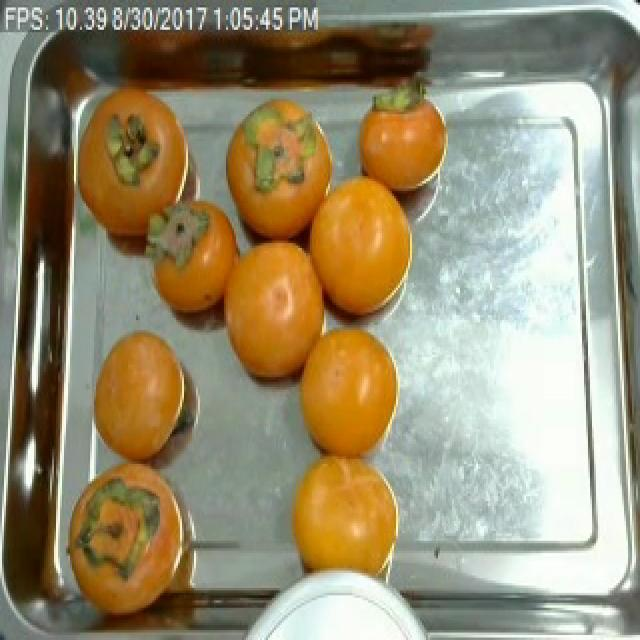Fruit: (70, 72, 204, 278), (68, 457, 208, 632), (294, 164, 420, 337), (210, 226, 334, 399), (274, 446, 414, 598), (284, 315, 410, 476), (138, 179, 254, 352), (86, 318, 200, 477), (216, 92, 344, 230), (346, 89, 456, 216)
